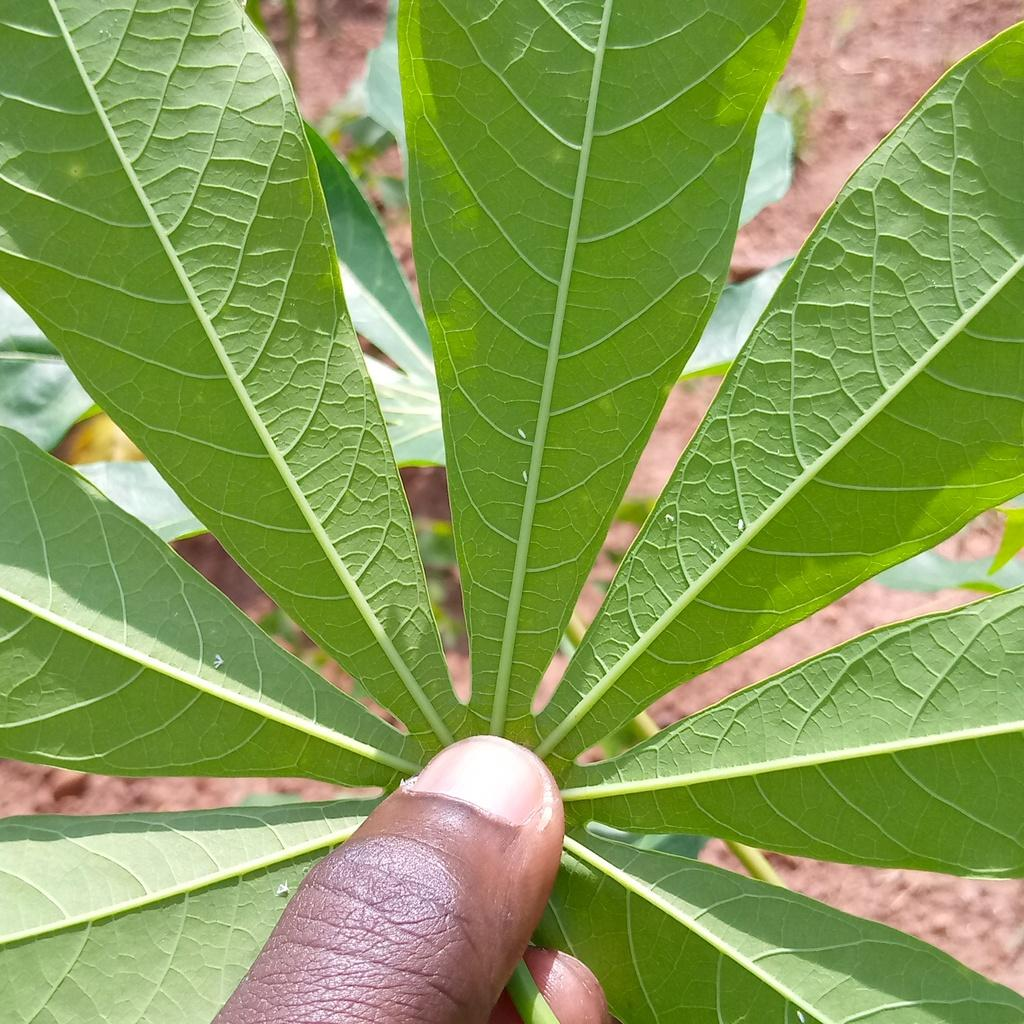adult: (275, 882, 290, 896), (214, 654, 224, 668), (517, 428, 527, 439), (521, 470, 529, 482), (664, 514, 674, 522), (737, 520, 745, 530)
